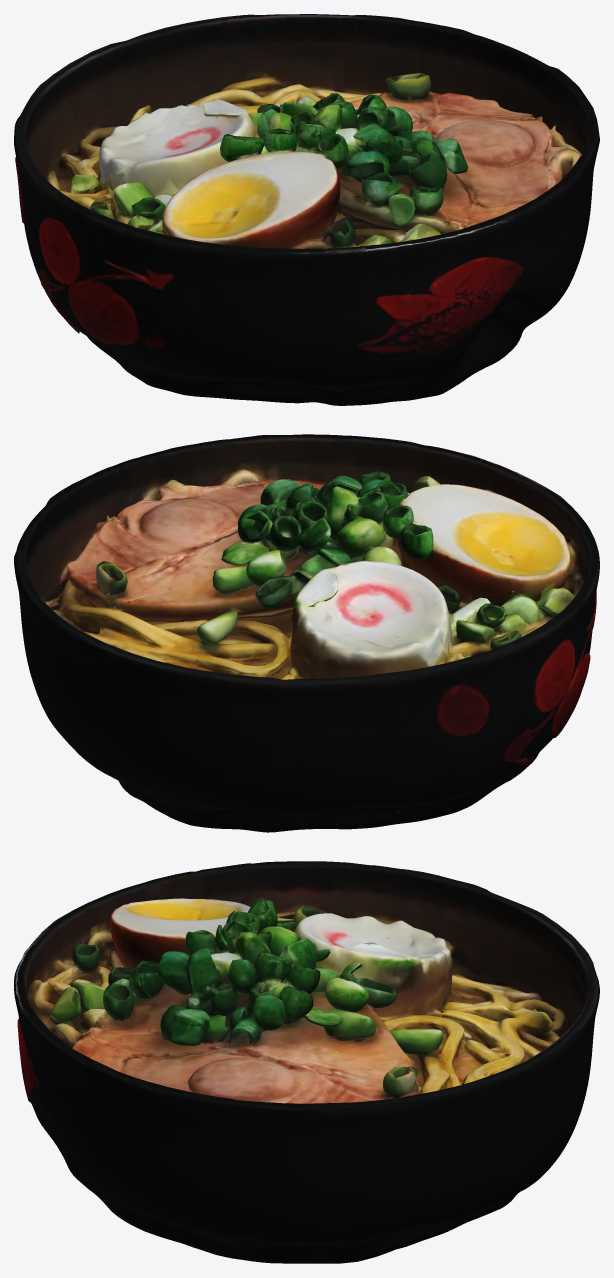
The model's file is soup.glb.
The picture shows the model from 3 angles, top to bottom: view 1: azimuth 30°, elevation 25°; view 2: azimuth 150°, elevation 25°; view 3: azimuth 270°, elevation 25°; orthographic projection.
Visible parts, largest first — view 1: tripo_node_4e375751-bcdb-4ba2-9d4e-be4fe27d2d88; view 2: tripo_node_4e375751-bcdb-4ba2-9d4e-be4fe27d2d88; view 3: tripo_node_4e375751-bcdb-4ba2-9d4e-be4fe27d2d88.
Boxes of the visible parts, bbox=[...] form: tripo_node_4e375751-bcdb-4ba2-9d4e-be4fe27d2d88: bbox=[14, 14, 599, 405]; tripo_node_4e375751-bcdb-4ba2-9d4e-be4fe27d2d88: bbox=[14, 434, 599, 832]; tripo_node_4e375751-bcdb-4ba2-9d4e-be4fe27d2d88: bbox=[14, 861, 599, 1263].
Size of the model in its own units: 0.9797 by 0.4417 by 0.9718.
Materials: 1 (1 with a texture image).
